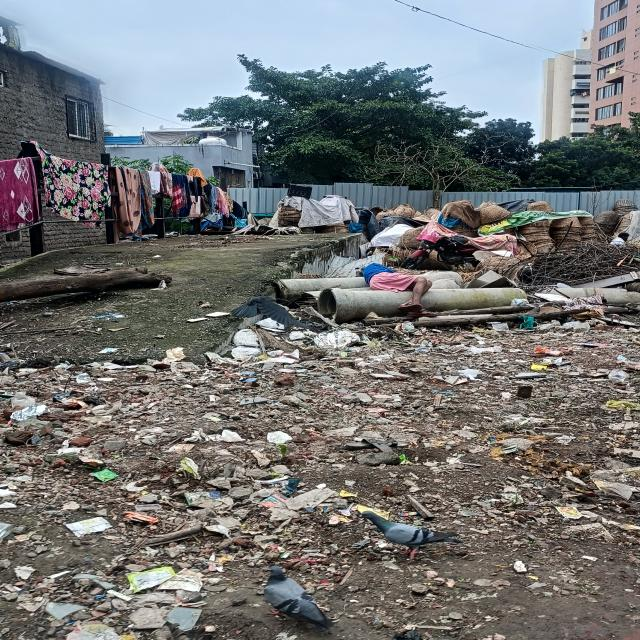garbage: (522, 248, 640, 329), (230, 304, 368, 364), (4, 388, 91, 439)
